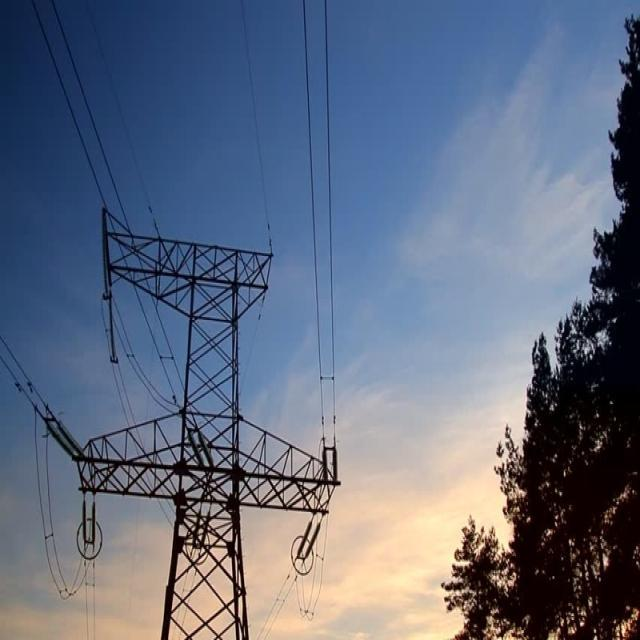non-critical vegetation: (79, 207, 335, 628)
